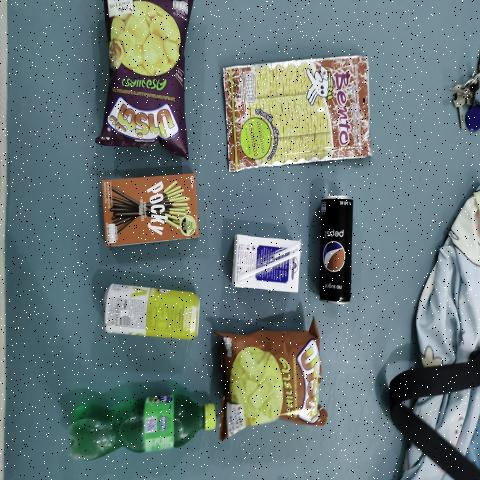bento_red: (230, 68, 370, 160)
fanta_green: (58, 393, 215, 458)
party_purple: (110, 3, 188, 150)
party_red: (225, 347, 316, 418)
pepsi_black: (325, 201, 352, 305)
pokki: (96, 172, 200, 247)
singha_yellow: (106, 286, 199, 339)
thai_denmark: (230, 230, 304, 296)
